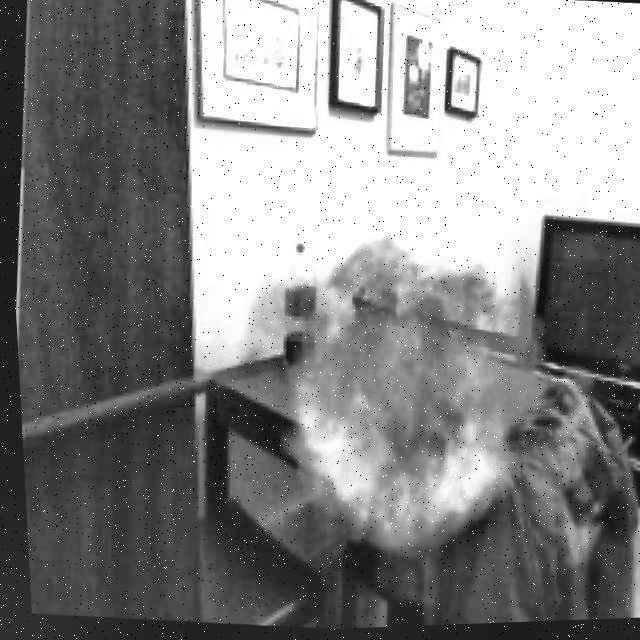Smoke: (212, 193, 624, 630)
